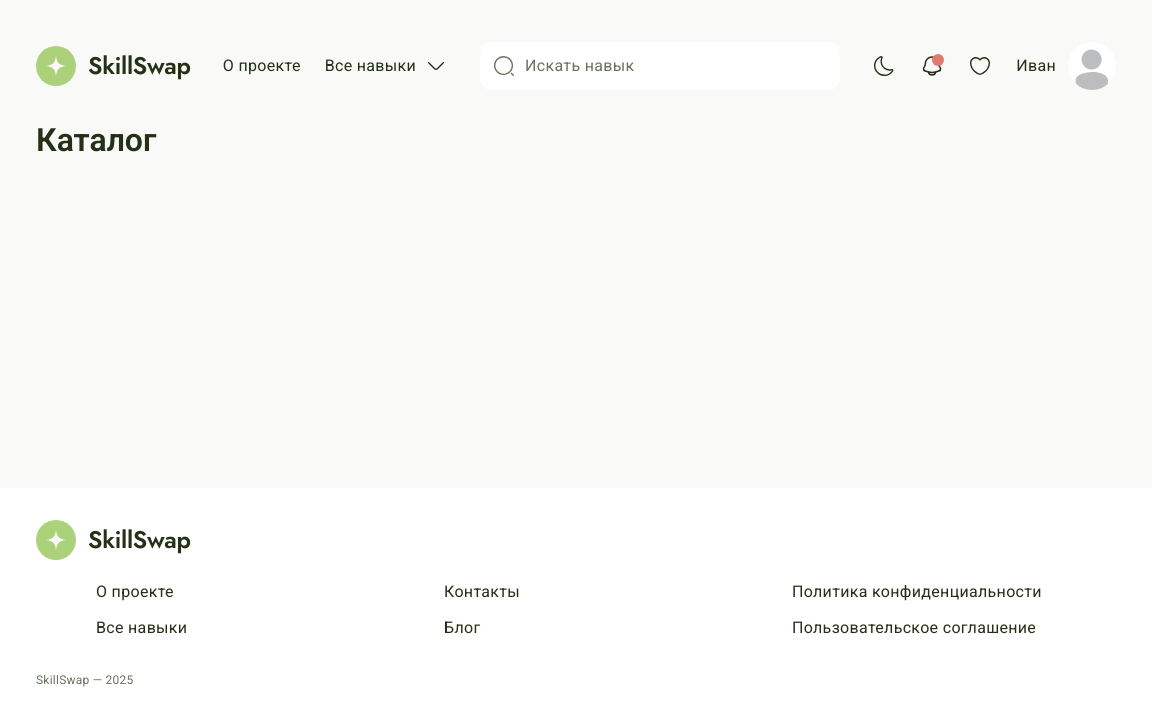
Test: MainLayout — уведомления › определяет навык по exchange и закрывает окно после перехода
What coordinates should you click on to do the following:
click the button named "Уведомления, есть новые"
I would click on:
 (932, 66)
Its box is [920, 54, 944, 78].
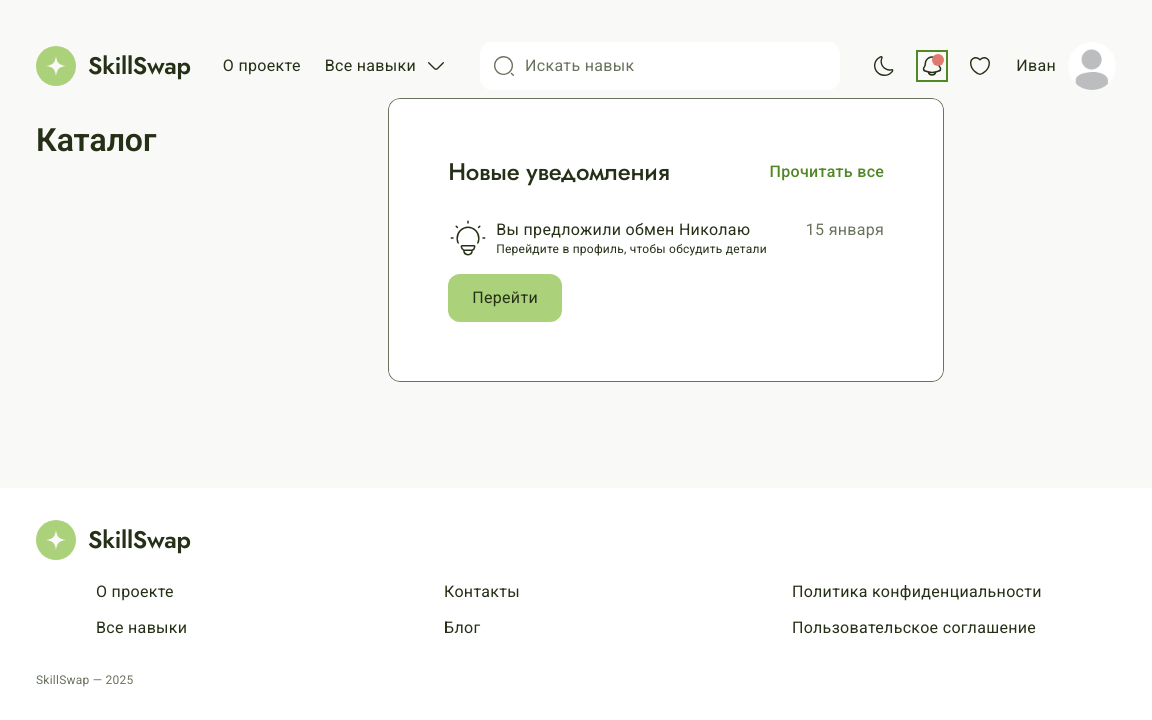
What coordinates should you click on to do the following:
click the button "Перейти"
I would click on:
 (505, 298)
Its box is [448, 274, 562, 322].
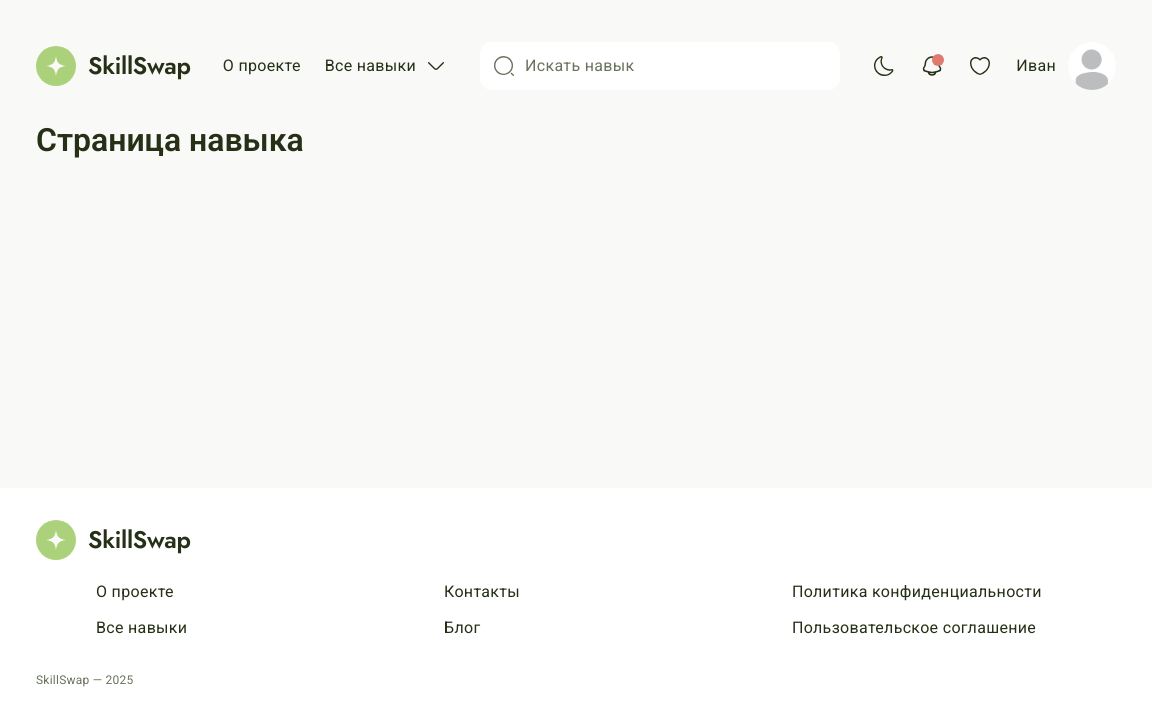
expect the heading "Страница навыка" is shown: met, box [36, 121, 304, 159]
expect the heading "уведомления" is gone: met
